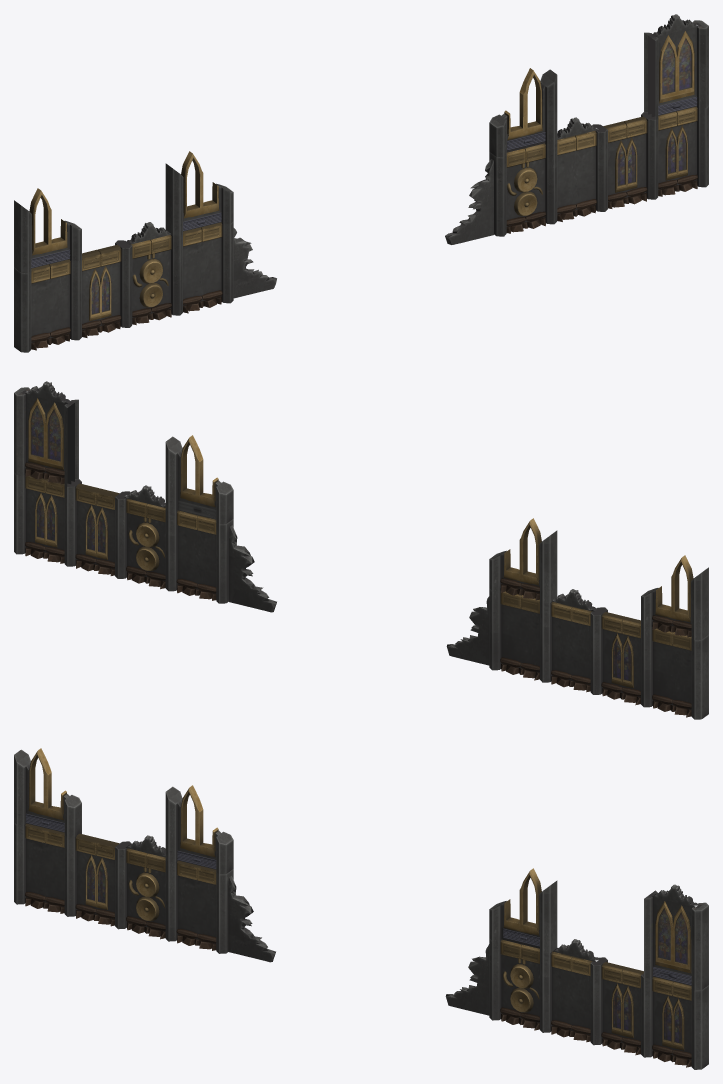
File: puertas biblio.fbx
The picture shows the model from 3 angles, top to bottom: view 1: azimuth 30°, elevation 25°; view 2: azimuth 150°, elevation 25°; view 3: azimuth 330°, elevation 25°; orthographic projection.
Visible parts, largest first — view 1: ColumnFiler.006, ColumnFiler.003; view 2: ColumnFiler.006, ColumnFiler.003; view 3: ColumnFiler.006, ColumnFiler.003.
Part boxes in pixels (<box>): ColumnFiler.006: <box>445,14,708,244</box>; ColumnFiler.003: <box>14,151,276,352</box>; ColumnFiler.006: <box>14,381,276,612</box>; ColumnFiler.003: <box>446,518,708,719</box>; ColumnFiler.006: <box>445,868,708,1069</box>; ColumnFiler.003: <box>14,748,275,962</box>.
Bounding box in the file's own units: 5675 × 1370 × 167.
